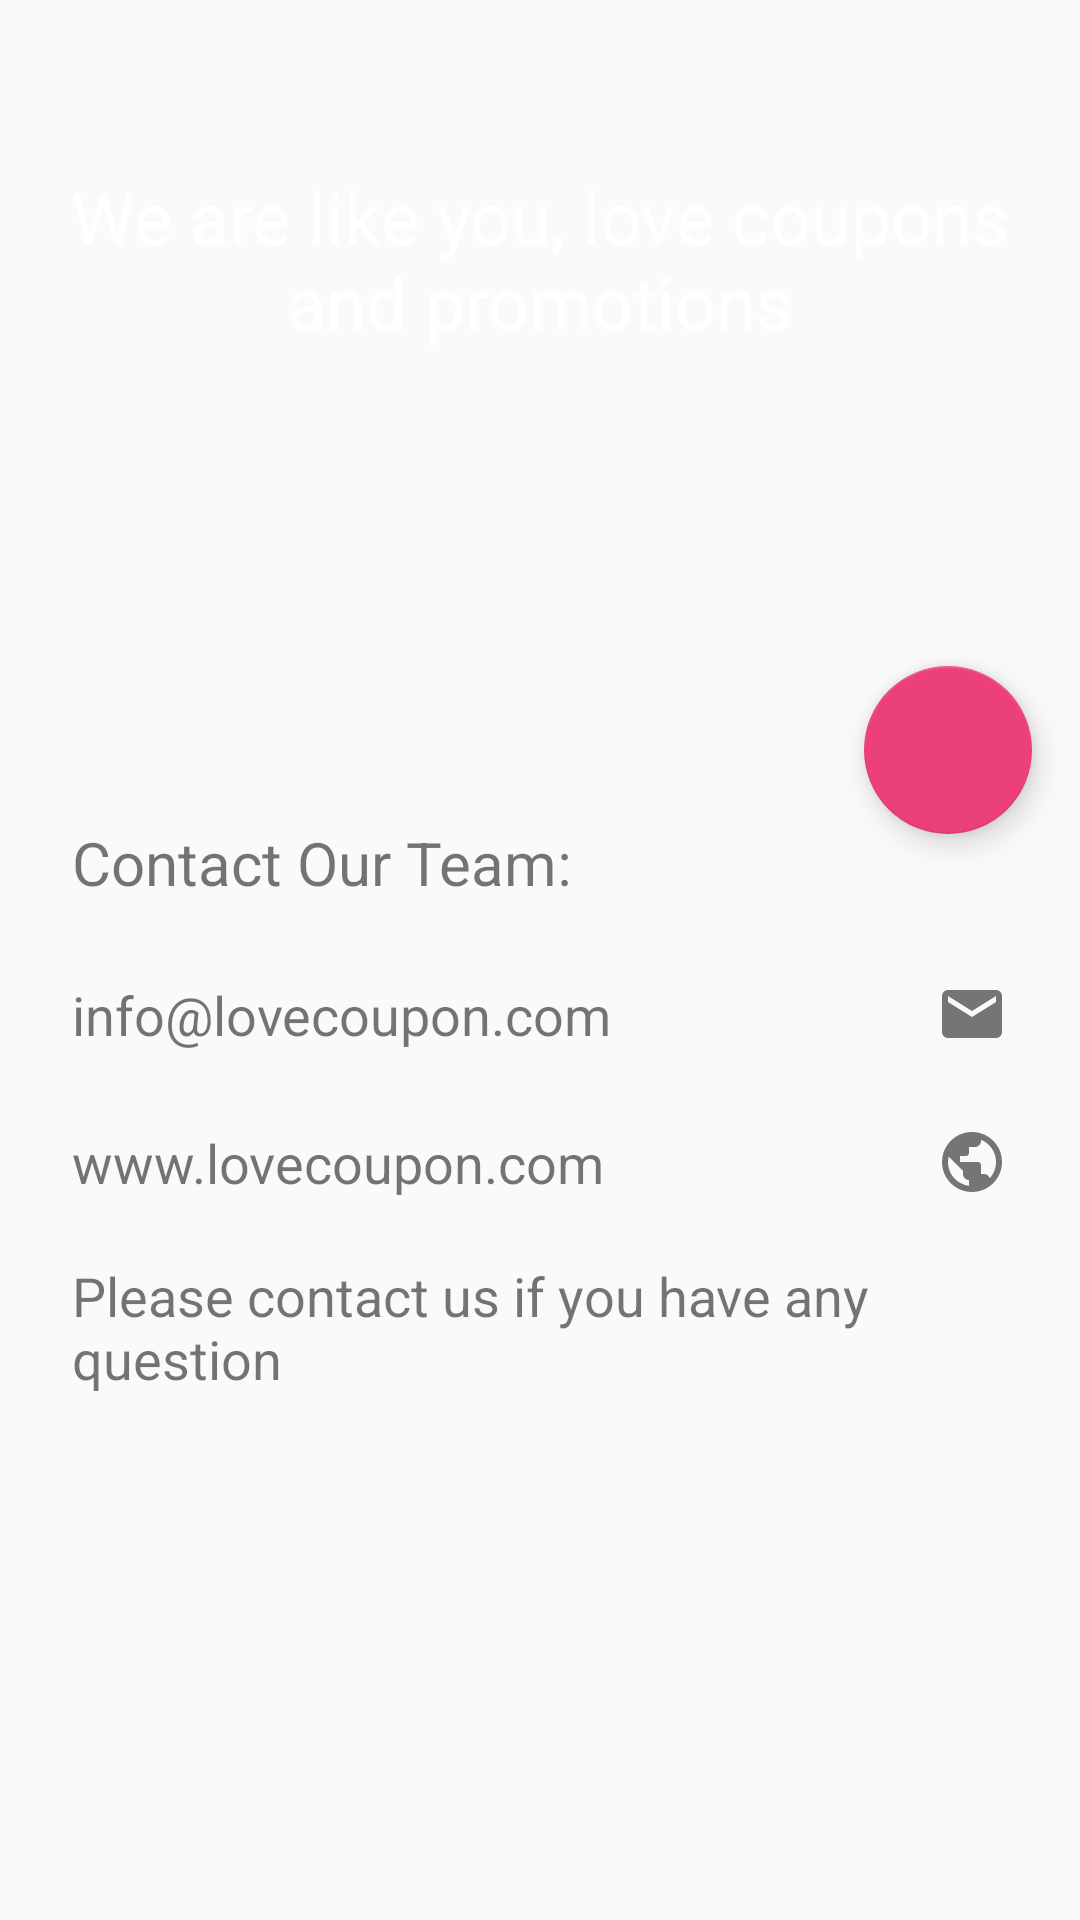

Named icons in this screenshot (1080×1920) and their bounding boxes, (x1, y1, x2, y2):
email: (942, 990, 1002, 1038)
public: (942, 1132, 1002, 1192)
